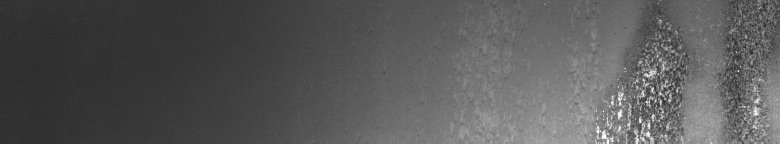hc: (592, 4, 776, 136)
